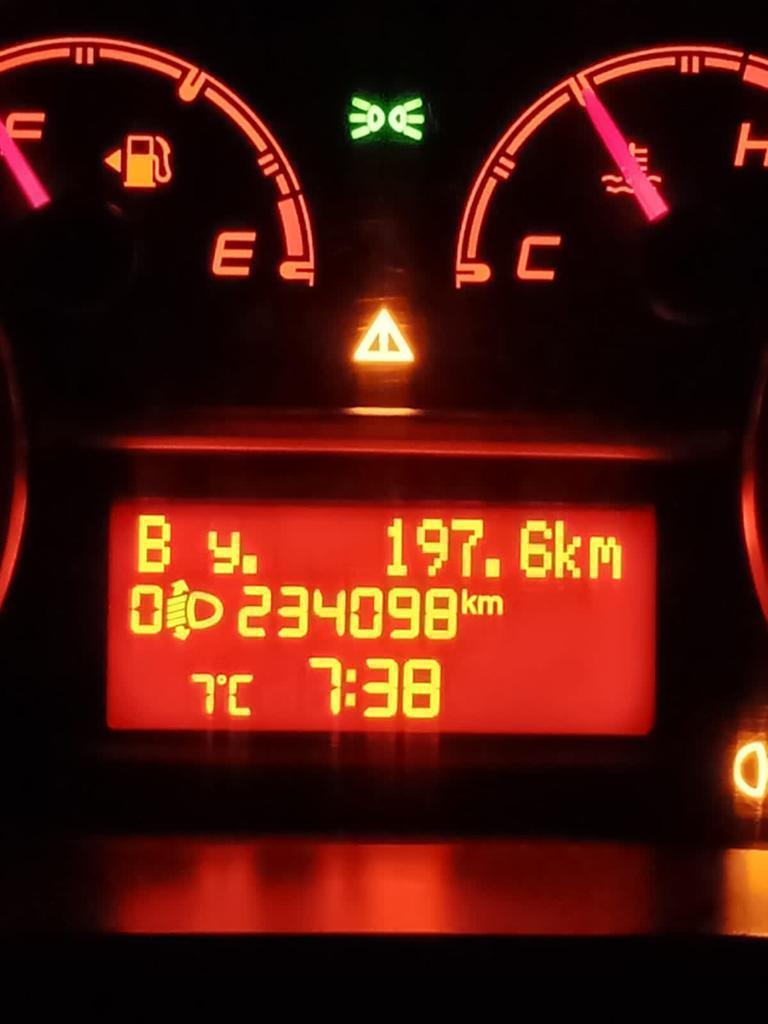,: (482, 555, 504, 581), (240, 551, 260, 576)
0: (349, 585, 383, 640), (130, 582, 163, 635)
1: (385, 514, 409, 580)
2: (238, 583, 271, 639)
3: (365, 656, 398, 718), (279, 584, 309, 638)
4: (312, 586, 346, 637)
6: (519, 517, 553, 580)
7: (450, 516, 485, 578), (307, 654, 342, 715), (190, 670, 215, 715)
8: (402, 656, 440, 719), (424, 587, 457, 640)
9: (415, 516, 450, 577), (387, 585, 419, 640)
X: (136, 512, 173, 574), (553, 517, 582, 580), (206, 527, 240, 575), (588, 534, 622, 580), (228, 671, 254, 717), (343, 665, 359, 711), (477, 592, 504, 616), (459, 586, 477, 616)
odometer: (100, 493, 660, 740)
